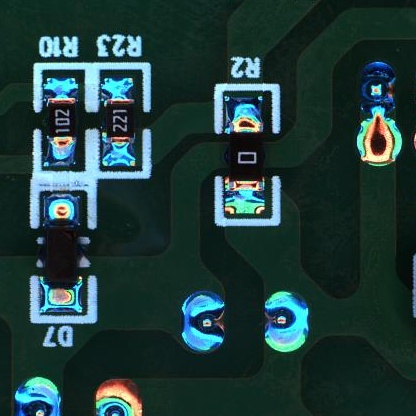spot: (264, 289, 310, 351), (182, 294, 225, 351), (361, 60, 397, 116), (15, 377, 60, 416), (95, 379, 140, 416)
